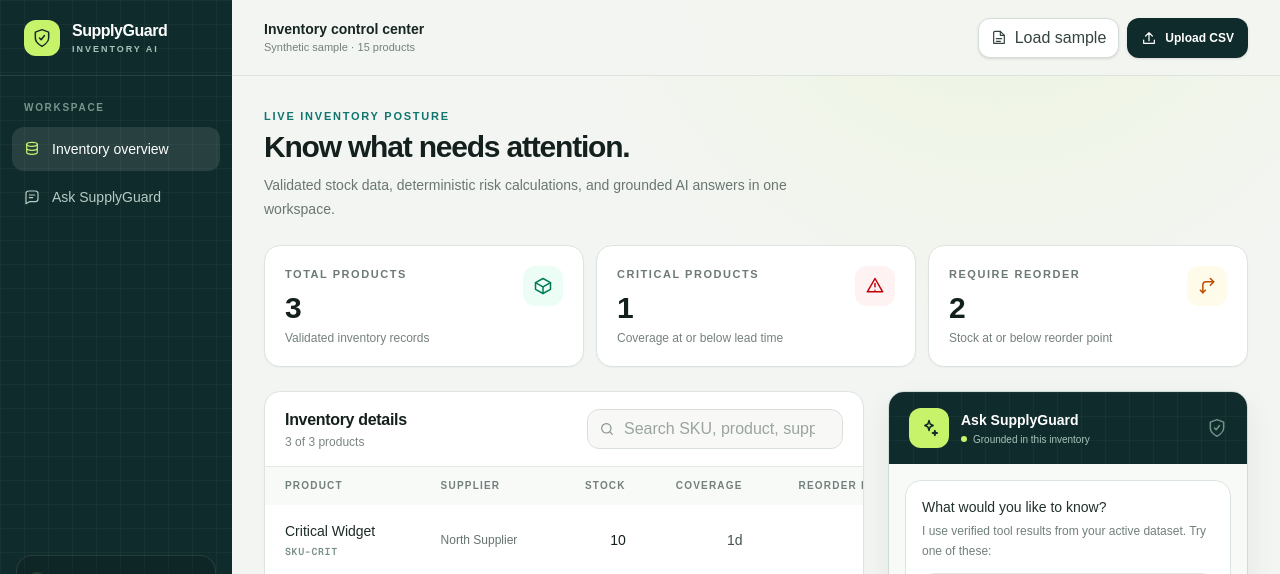
InventoryDashboard › derives KPI cards and searchable table values from validated inventory
The width and height of the screenshot is (1280, 574).
Check: the text "Total products" shows "3", box [285,291,300,324]
Check: the text "Critical products" shows "1", box [617,291,632,324]
Type "south supplier" into the search field named "Search inventory" at (715, 429), box [587,409,843,449]
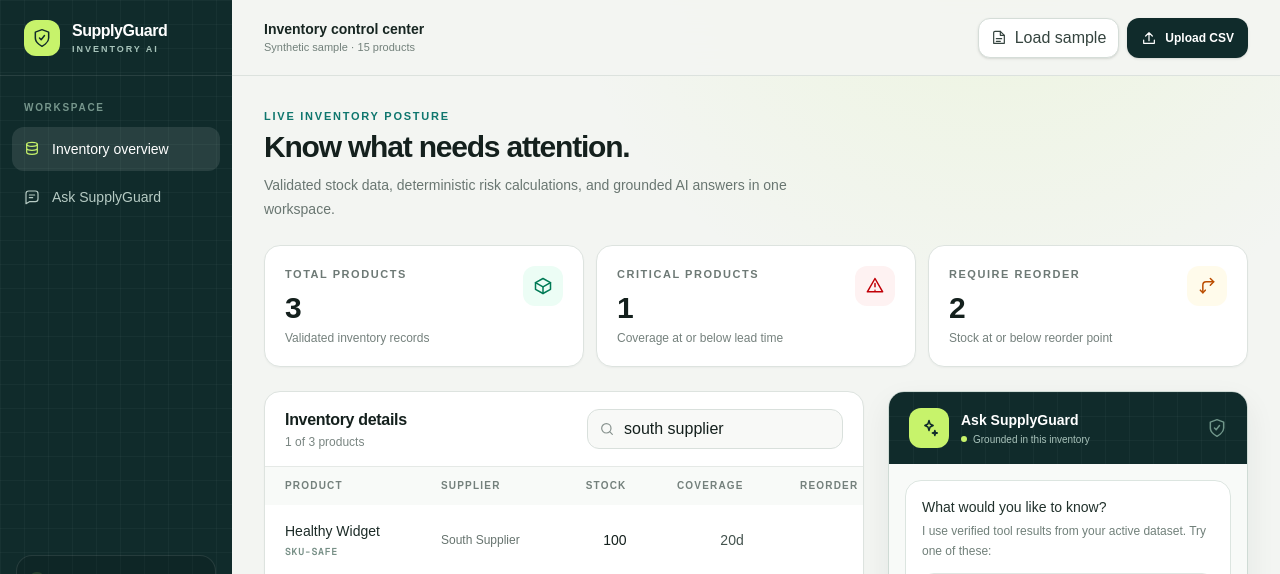
Check: the text "Healthy Widget" is shown, box [285,523,380,539]
Check: the text "1 of 3 products" is shown, box [285,435,364,449]
Check: the text "Critical Widget" is gone
